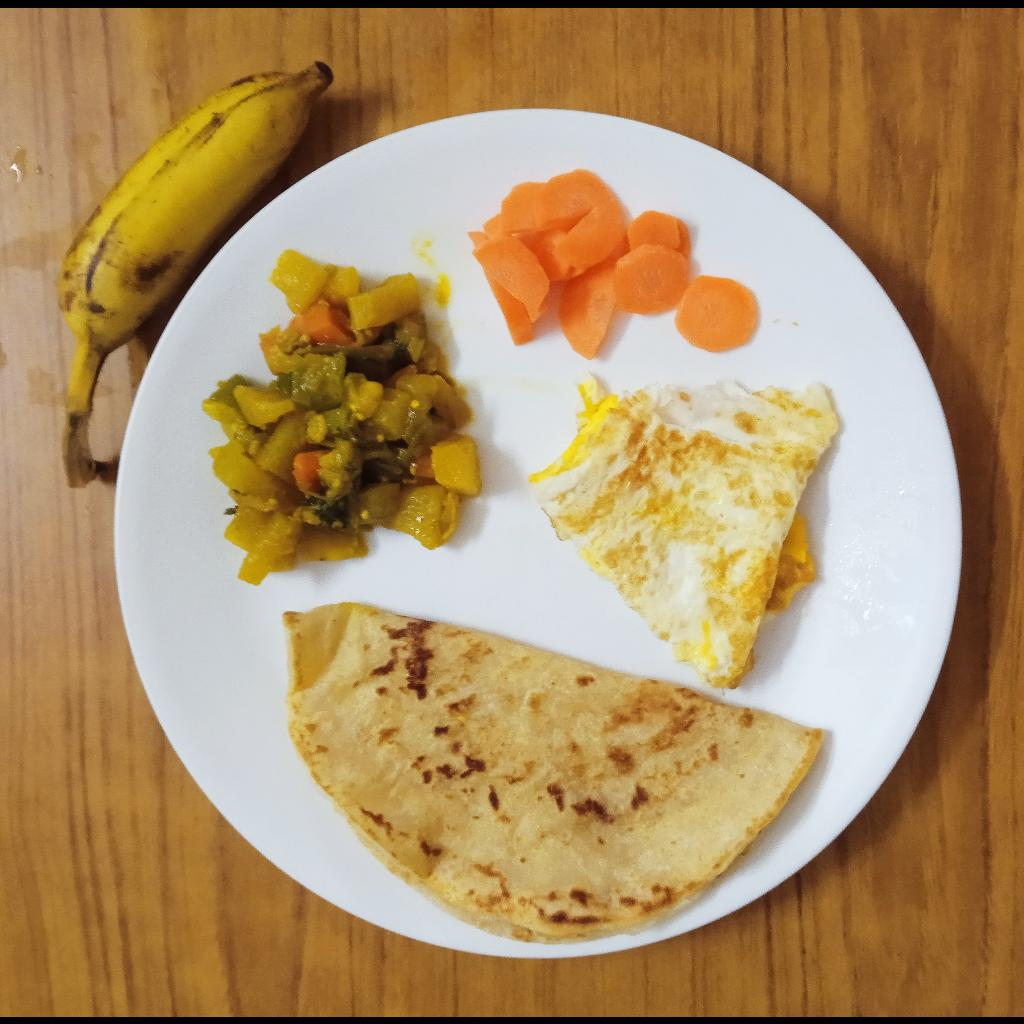banana: (56, 58, 336, 411)
carrot: (471, 167, 763, 361)
egg-poached: (534, 373, 841, 690)
ruti: (283, 603, 823, 945)
vegetable: (202, 246, 485, 585)
